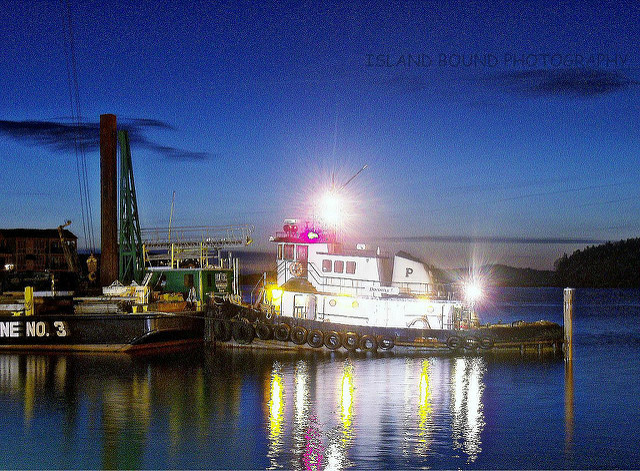tug_boat: (211, 219, 565, 366)
